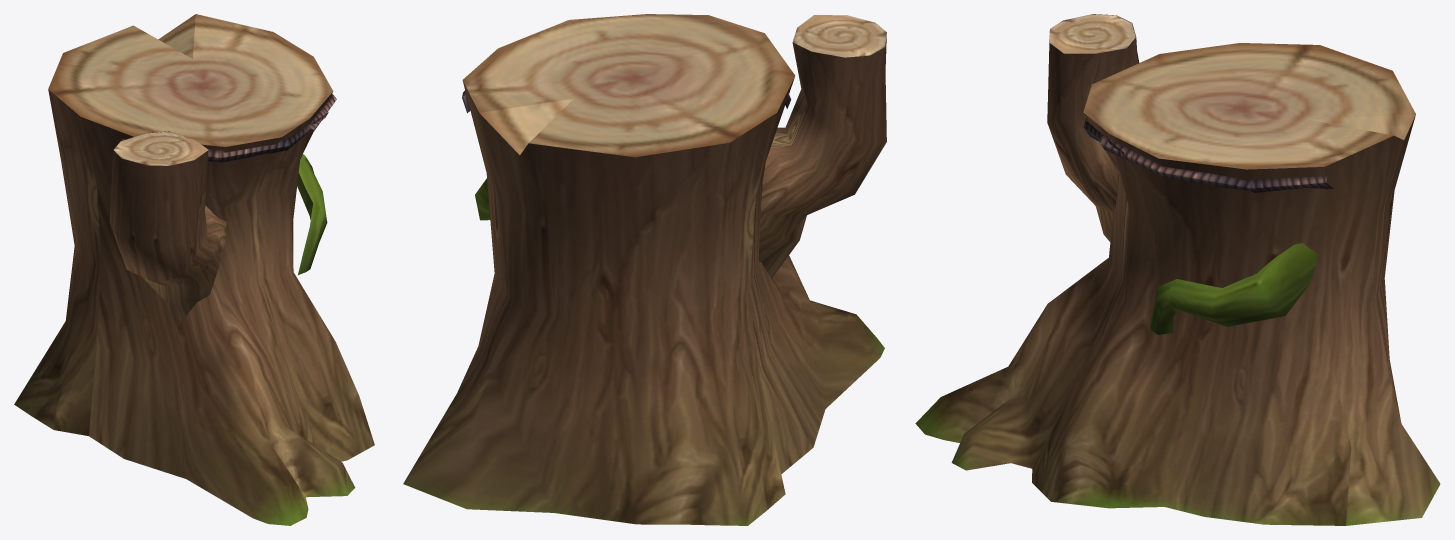
File: Yegesl_shu06.FBX
3 renders of one model, left to right at view 1: azimuth 30°, elevation 25°; view 2: azimuth 150°, elevation 25°; view 3: azimuth 270°, elevation 25°, orthographic. The views are drawn at different scales.
Visible parts, largest first — view 1: Yegesl_shu06; view 2: Yegesl_shu06; view 3: Yegesl_shu06.
Part boxes in pixels (box(x1,y1,x2,y2)): Yegesl_shu06: box(14, 14, 374, 525); Yegesl_shu06: box(403, 14, 886, 525); Yegesl_shu06: box(915, 14, 1440, 525).
Bounding box in the file's own units: 48.11 × 70.92 × 53.98.
